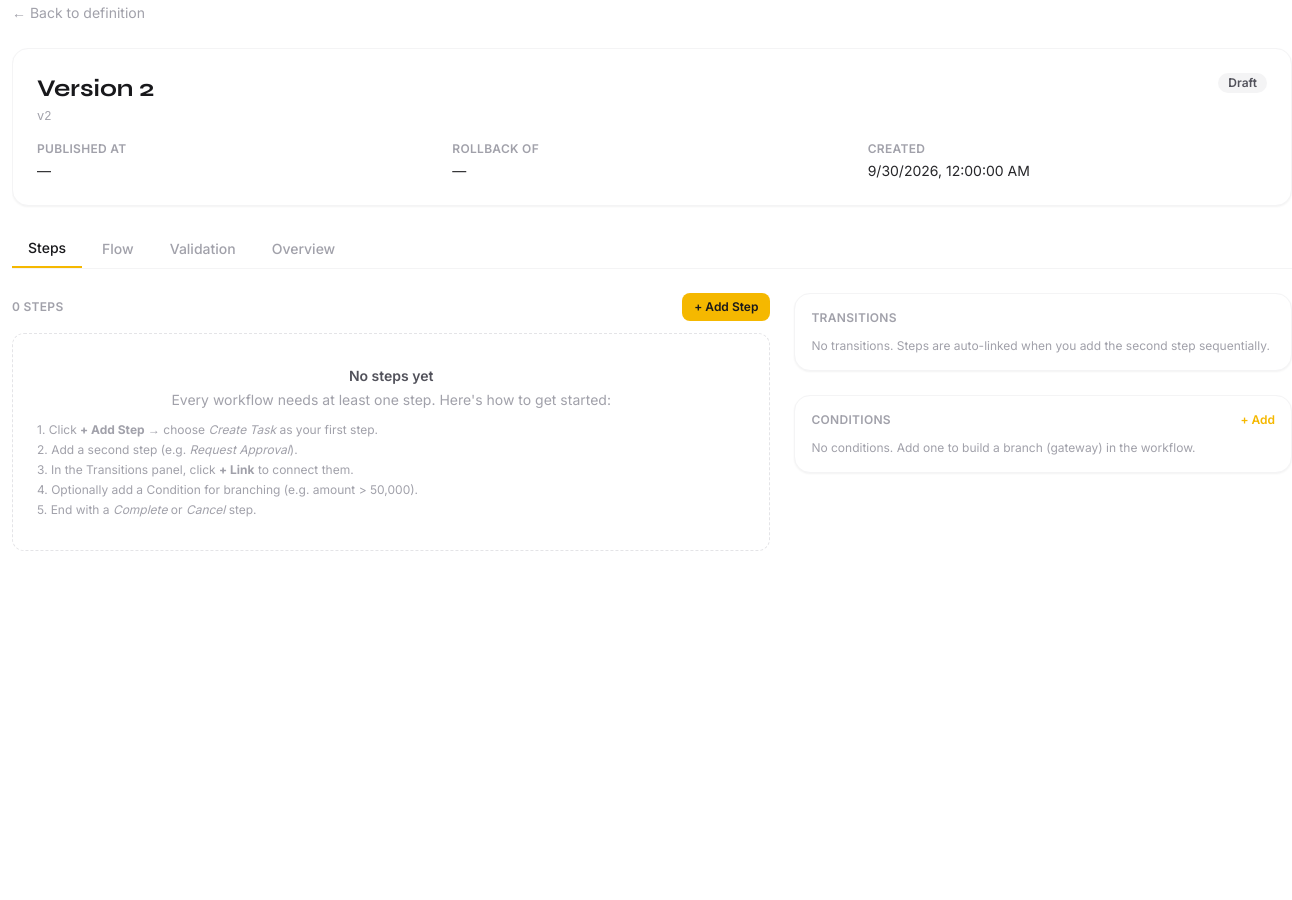
Scenario: WorkflowVersionDetailPage › shows findings after failed validation
Check: the heading "Version 2" is shown, box [37,73,154,105]
Click the button "validation" at (203, 249), box [154,230,252,268]
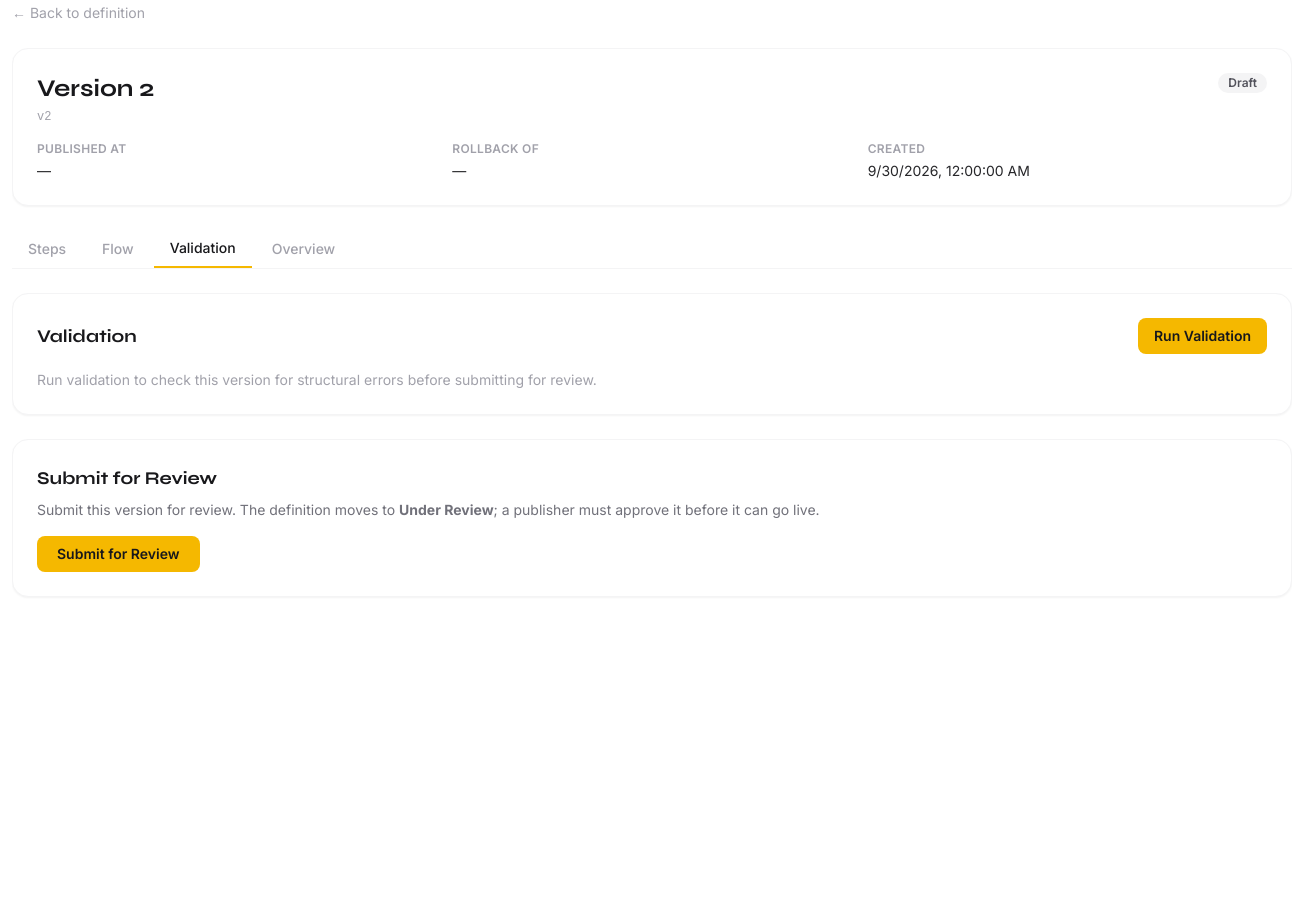
Check: the button "Run Validation" is shown
Click the button "Run Validation" at (1202, 336), box [1138,318,1267,354]
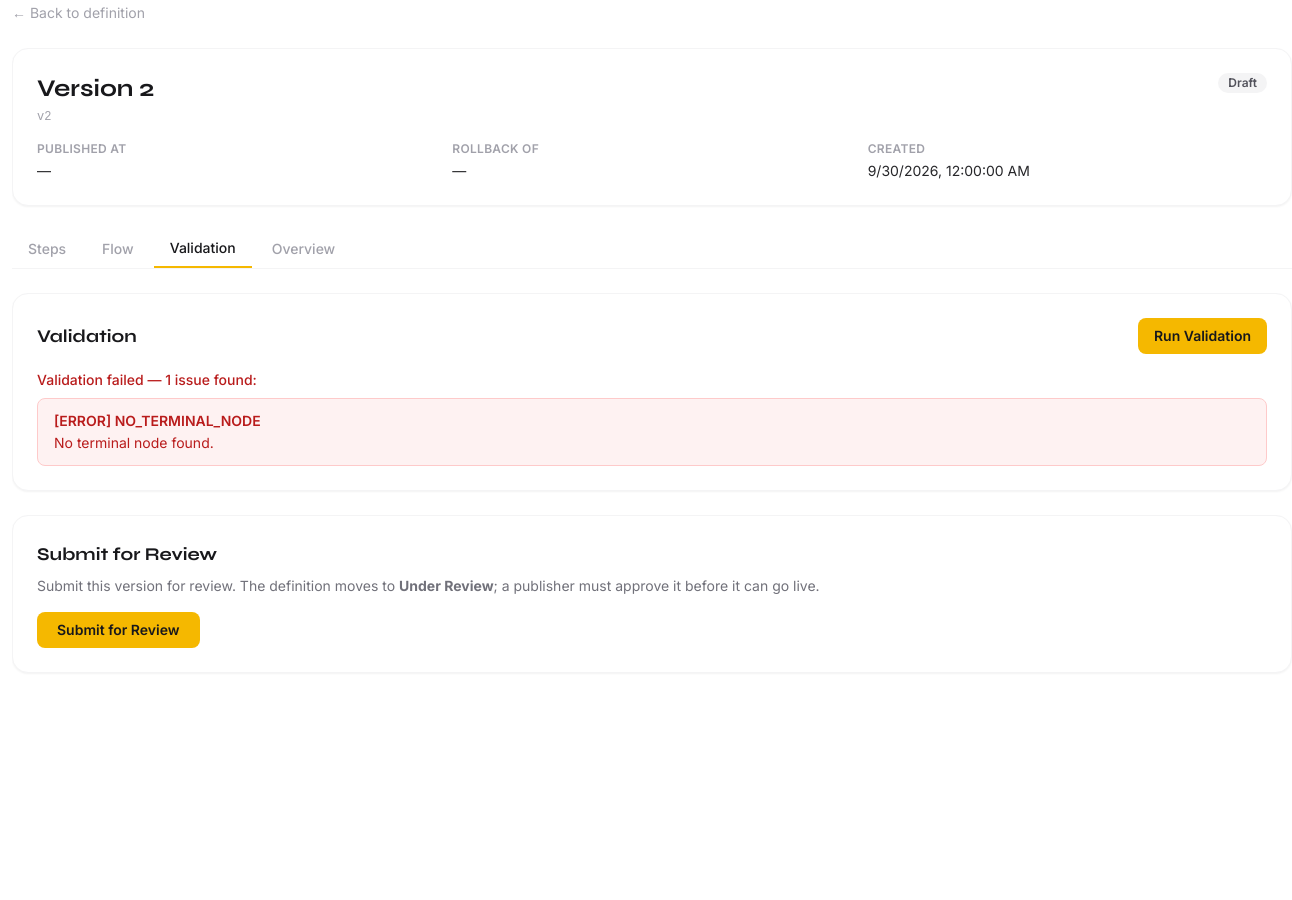
Check: the text "[ERROR] NO_TERMINAL_NODE" is shown, box [54,412,261,429]
Check: the text "No terminal node found." is shown, box [54,434,214,451]
